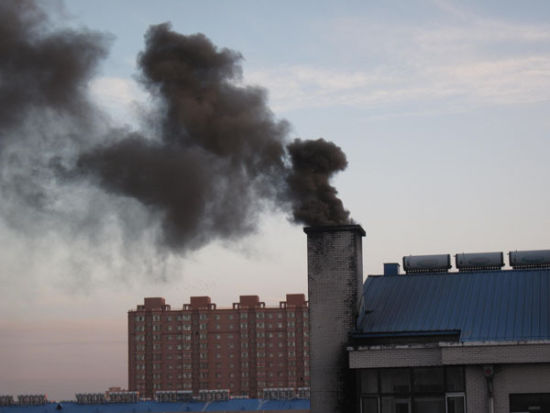dust: (149, 88, 376, 237)
